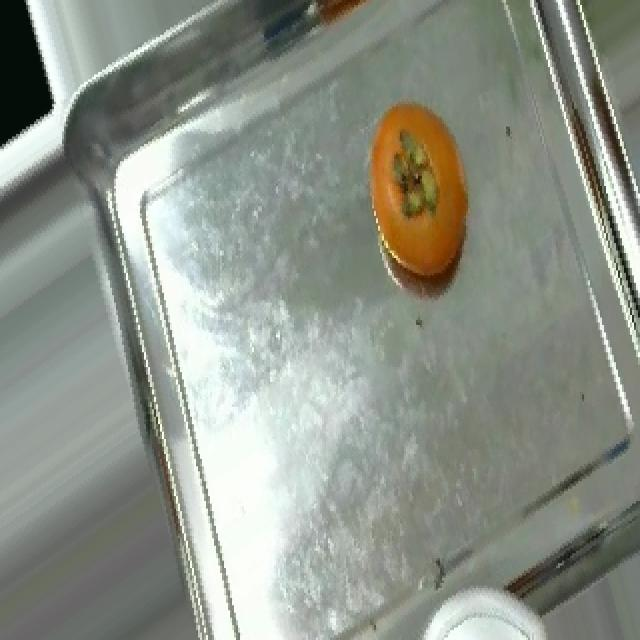Fruit: (352, 82, 490, 288)
